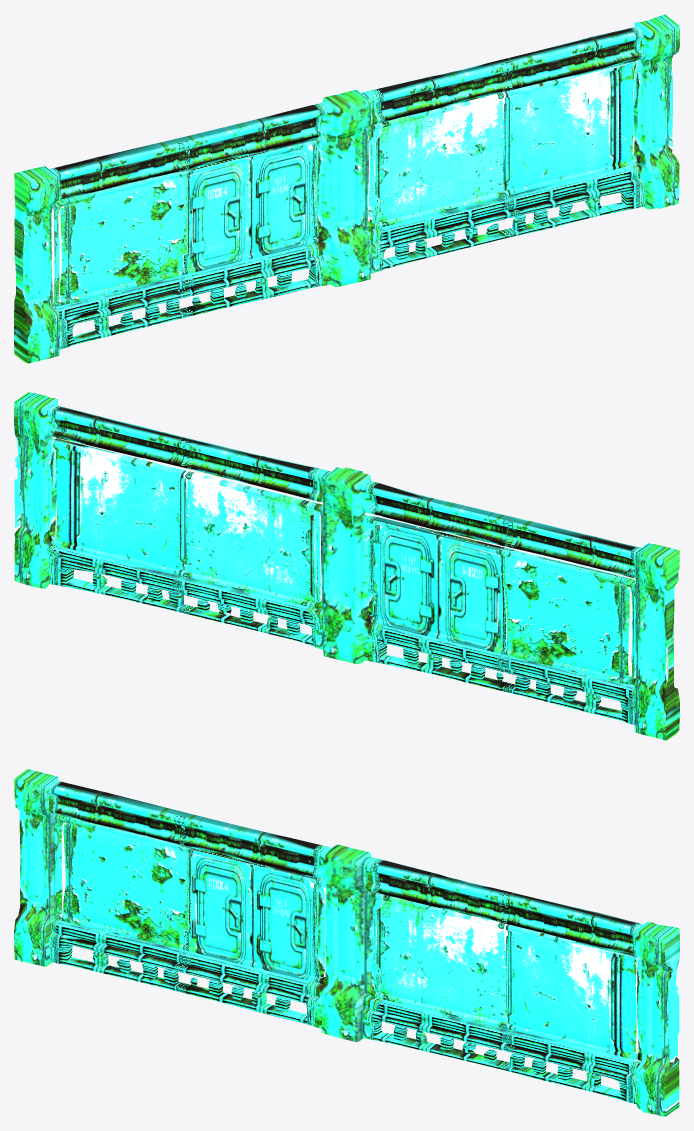
The model's file is wall_rusted.glb.
3 views of the same model, one above another, from view 1: azimuth 30°, elevation 25°; view 2: azimuth 150°, elevation 25°; view 3: azimuth 330°, elevation 25° (orthographic).
Parts seen in each view (by area): view 1: Wall_Rusted; view 2: Wall_Rusted; view 3: Wall_Rusted.
Part boxes in pixels (x1,y1,x2,y2): Wall_Rusted: [14, 14, 679, 363]; Wall_Rusted: [14, 392, 679, 740]; Wall_Rusted: [14, 769, 679, 1116].
Size of the model in its own units: 1 by 0.2672 by 0.045.
1 material, 1 textured.
